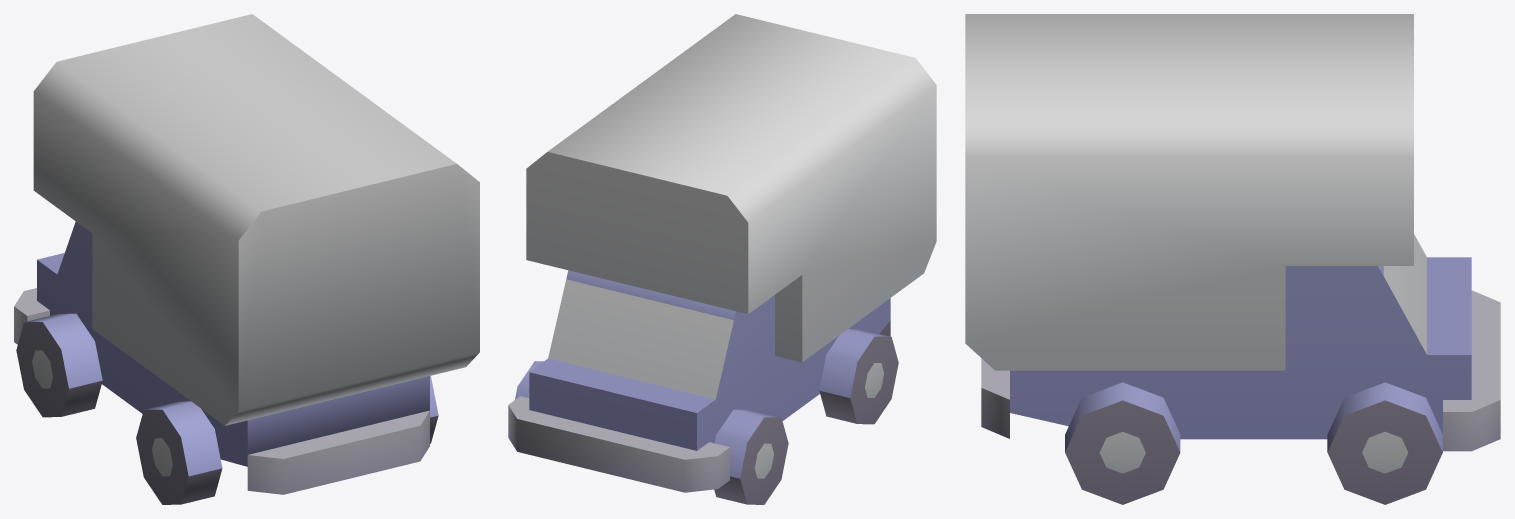
File: toy-truck (%secret).glb
The picture shows the model from 3 angles, left to right: view 1: azimuth 30°, elevation 25°; view 2: azimuth 150°, elevation 25°; view 3: azimuth 270°, elevation 25°; orthographic projection. The views are drawn at different scales.
Parts seen in each view (by area): view 1: toy-truck (%secret); view 2: toy-truck (%secret); view 3: toy-truck (%secret).
Part boxes in pixels (left/top/right/bottom): toy-truck (%secret): left=14, top=14, right=479, bottom=504; toy-truck (%secret): left=508, top=14, right=936, bottom=504; toy-truck (%secret): left=965, top=14, right=1500, bottom=504.
Size of the model in its own units: 0.1326 by 0.172 by 0.2243.
